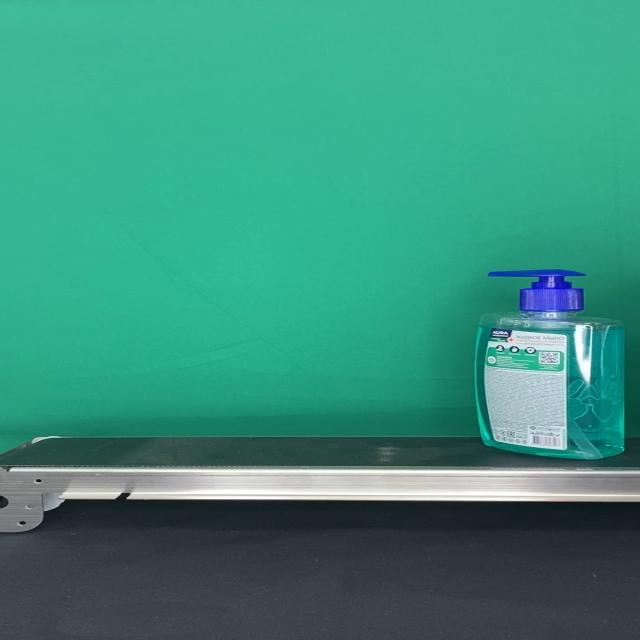Bottle: (474, 269, 625, 460)
Cap: (486, 269, 586, 311)
